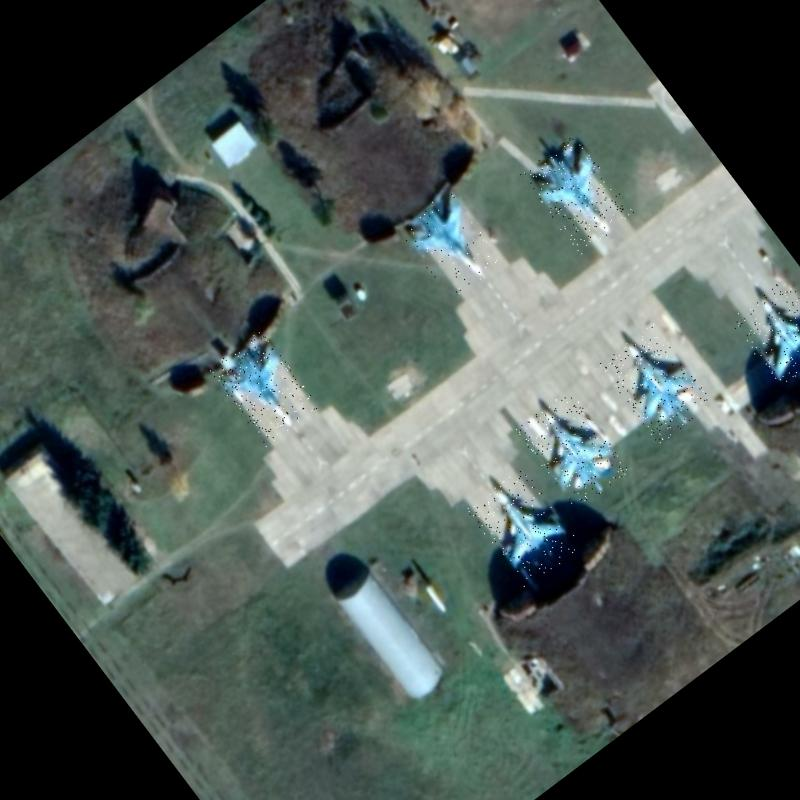A19: (466, 466, 583, 590), (520, 134, 636, 256), (515, 389, 631, 511), (598, 323, 714, 445), (208, 329, 320, 447), (394, 185, 506, 302), (729, 277, 800, 398)
